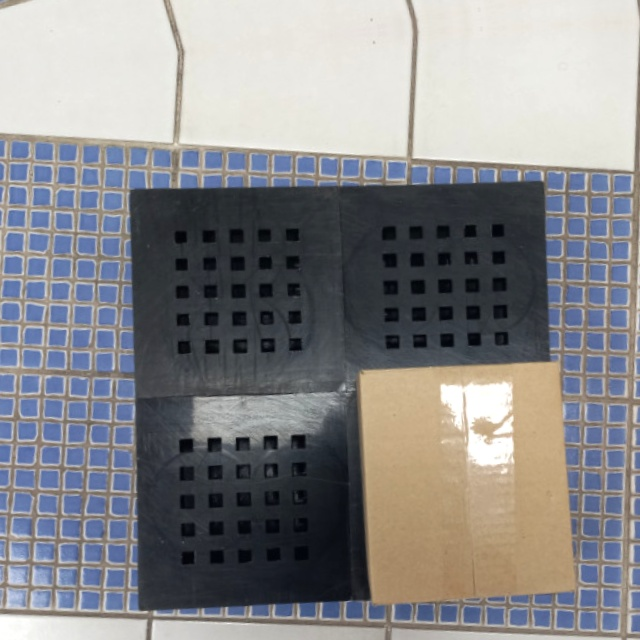box: (353, 354, 579, 615)
pallet: (117, 156, 578, 614)
